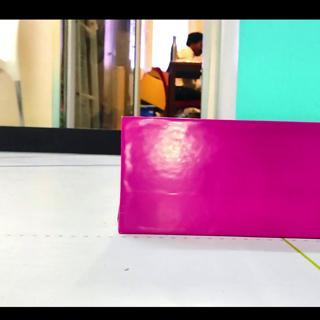xparking: (124, 122, 306, 234)
